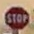stop: (4, 5, 29, 29)
